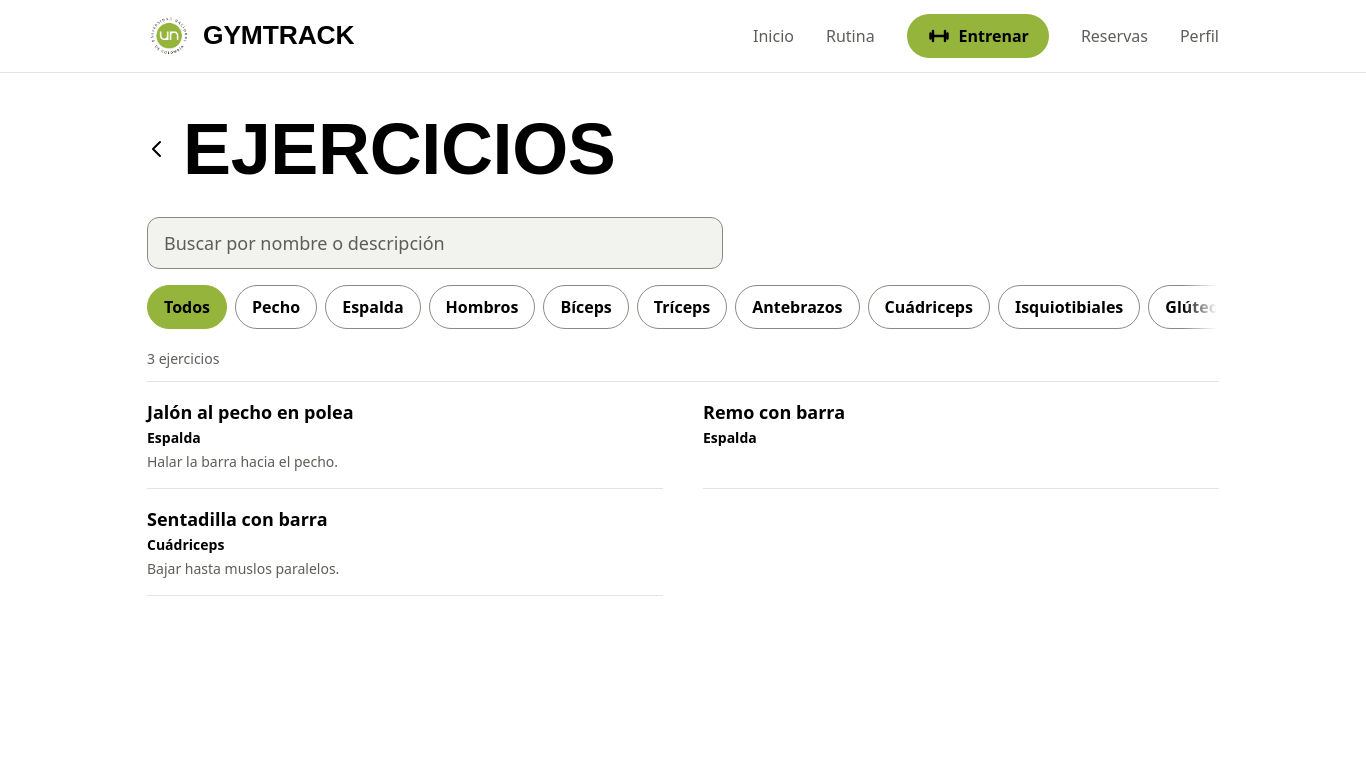
Test: catálogo de ejercicios: deportista (GYMM-12) › busca sin importar tildes y filtra por grupo muscular
expect the text "3 ejercicios" is shown: met, box [147, 349, 219, 368]
In the search field named "Buscar ejercicio": [435, 243] box [147, 217, 723, 269], type "jalon"
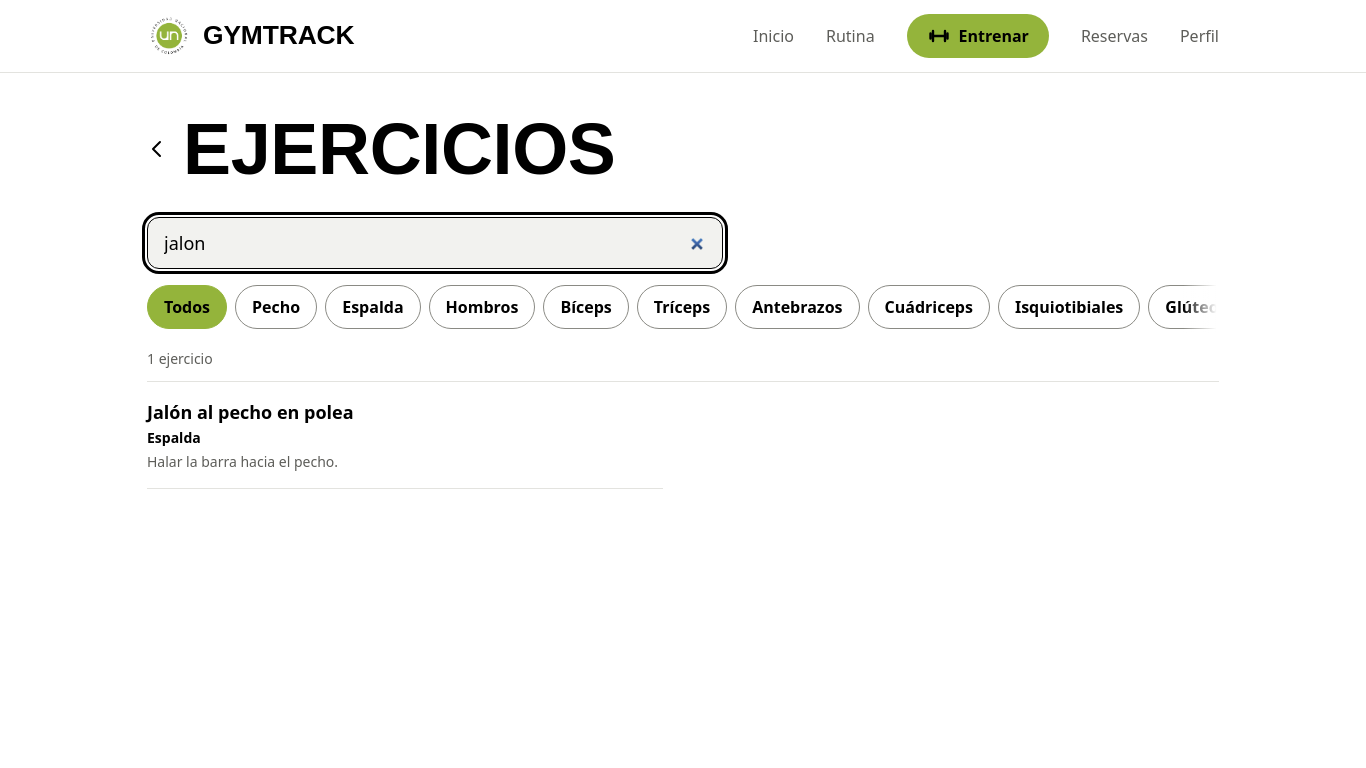
Clear the search field named "Buscar ejercicio": [435, 243] box [147, 217, 723, 269]
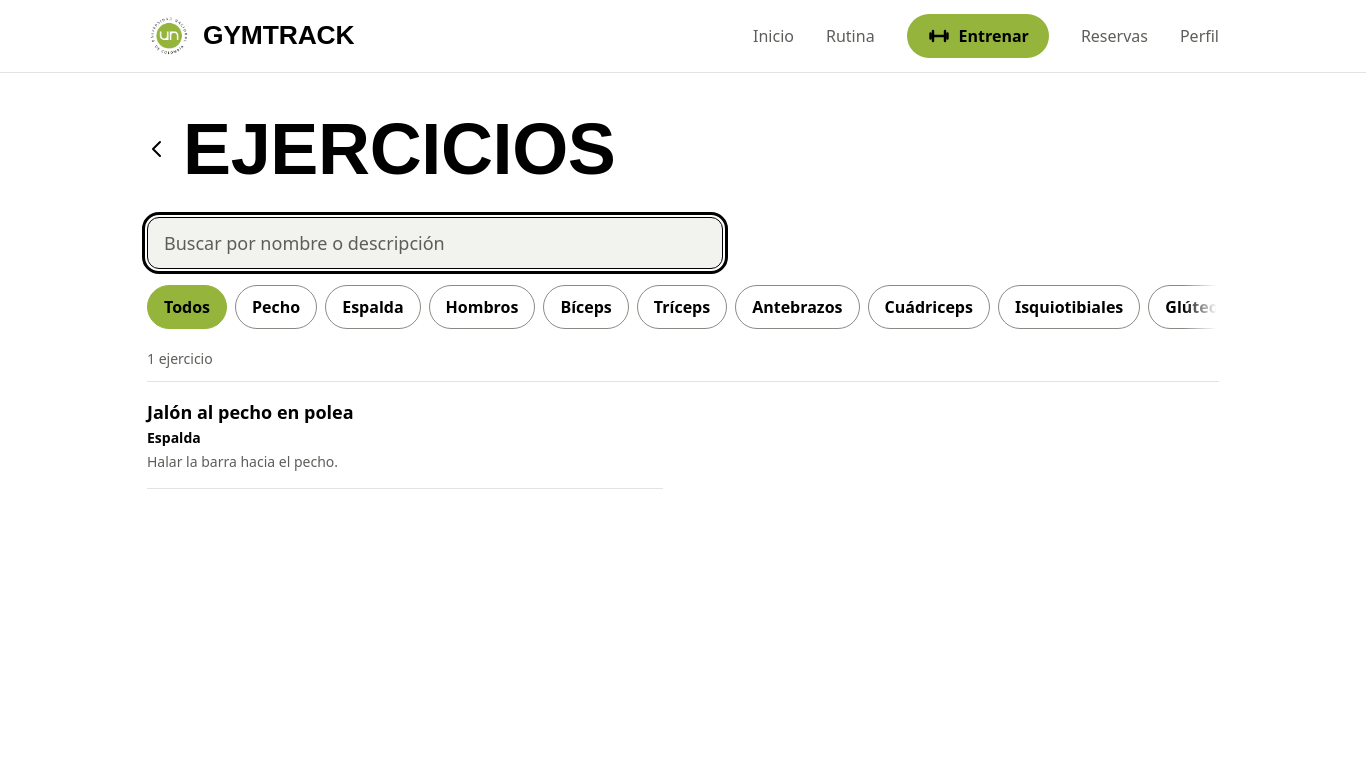
Click the button "Cuádriceps": [929, 307] box [868, 285, 990, 329]
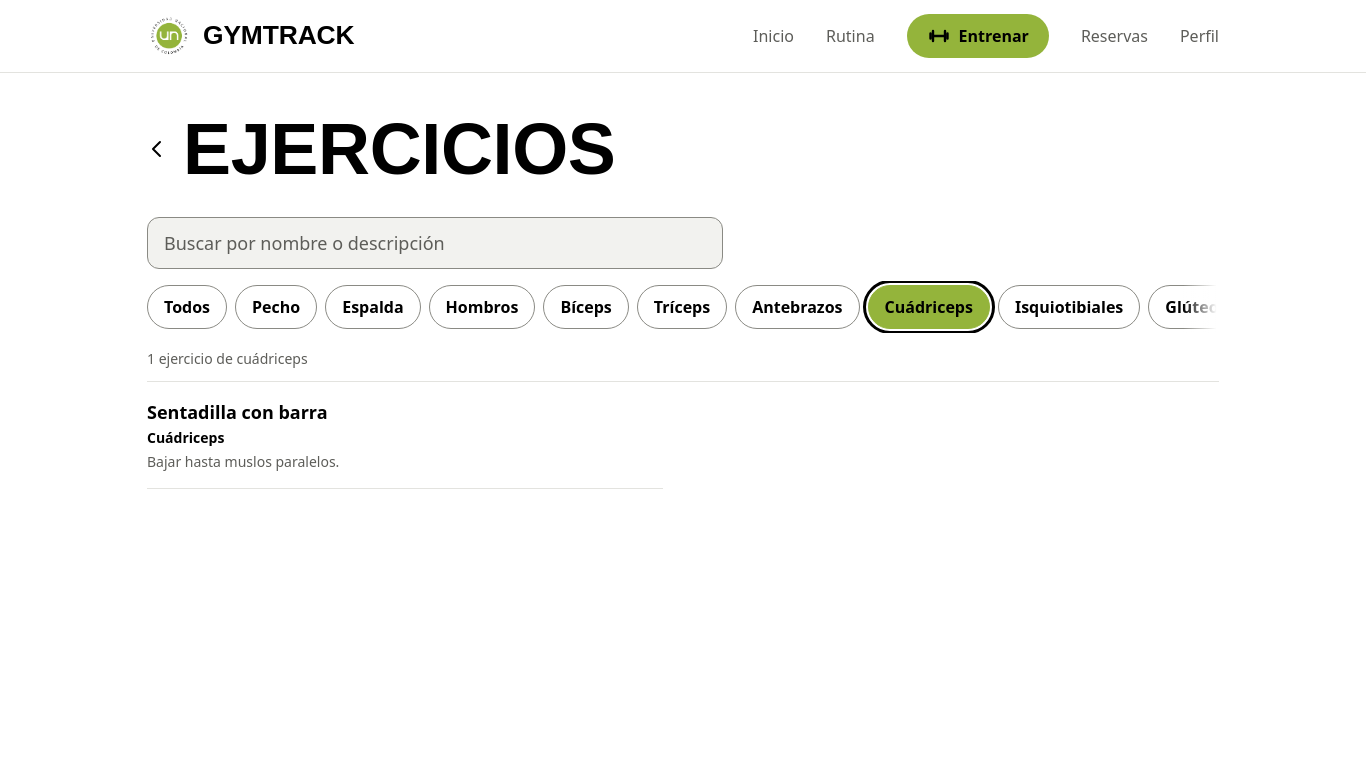
expect the text "1 ejercicio de cuádriceps" is shown: met, box [147, 349, 308, 368]
